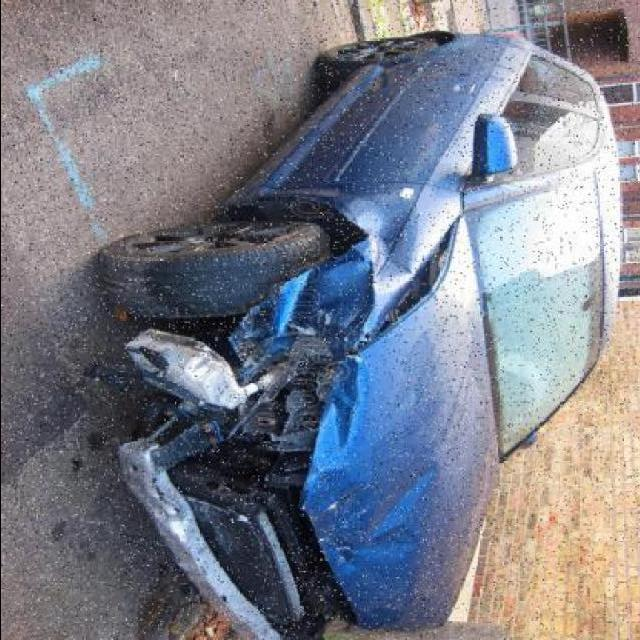bonnet-dent: (316, 346, 500, 639)
fender-dent: (249, 189, 409, 339)
